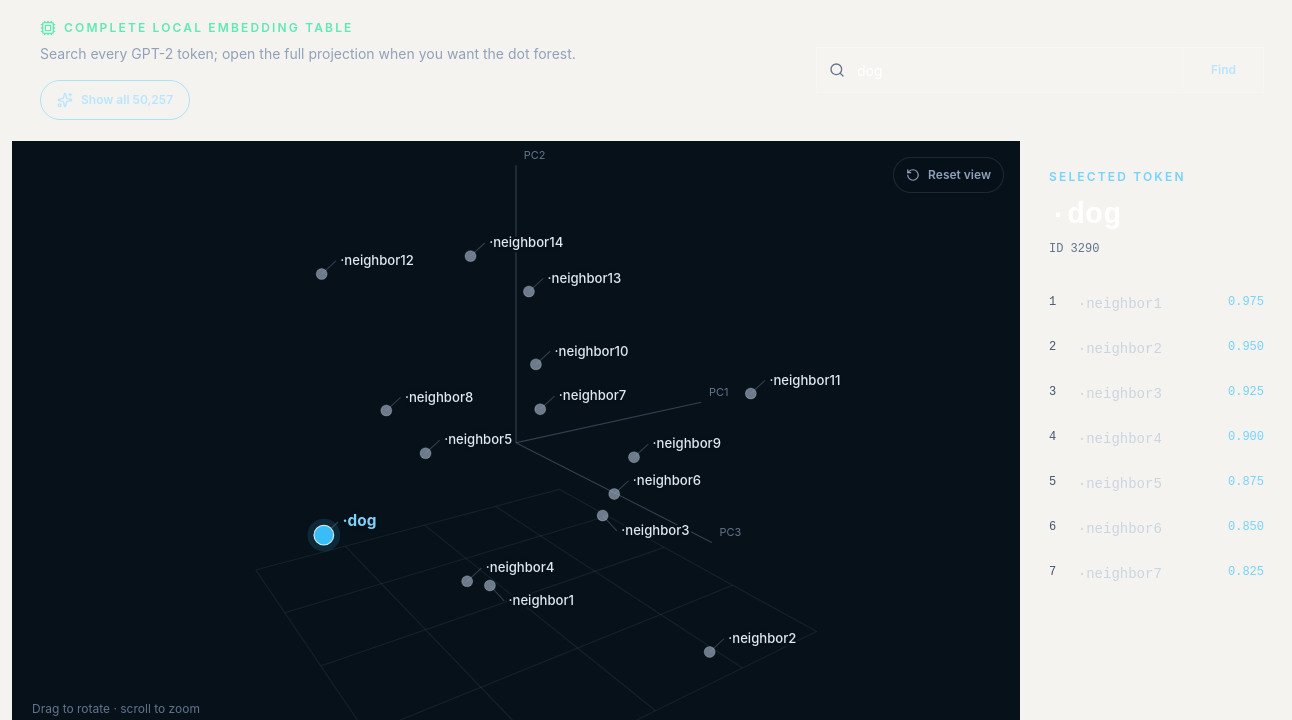
Test: Gpt2EmbeddingExplorer › loads the complete dot forest only when requested and can return to the focused view
Step 1. Click the button with test id "toggle-embedding-forest" → (115, 100), box top-left (40, 80), bottom-right (190, 120)
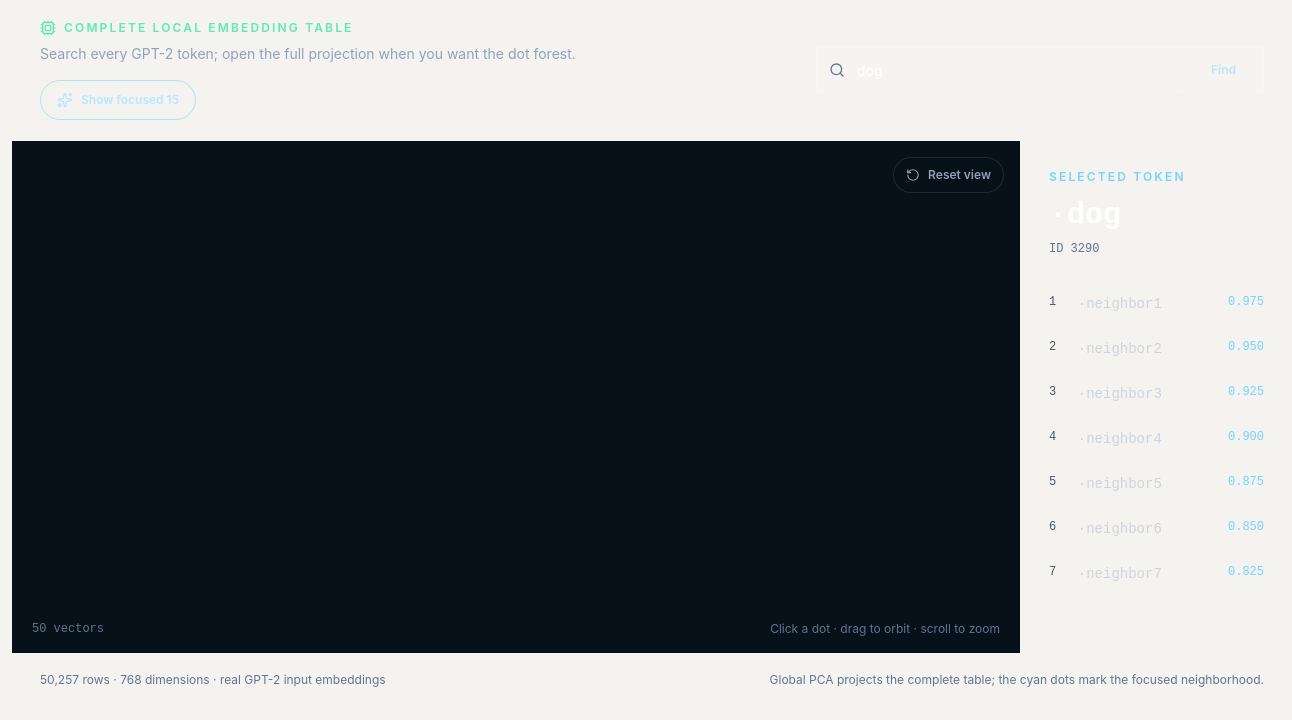
Now the element with test id "gpt2-embedding-forest" is shown, box top-left (12, 141), bottom-right (1020, 653)
Now the button with test id "toggle-embedding-forest" reads "Show focused 15"
Step 2. Click the button with test id "toggle-embedding-forest" → (118, 100), box top-left (40, 80), bottom-right (196, 120)
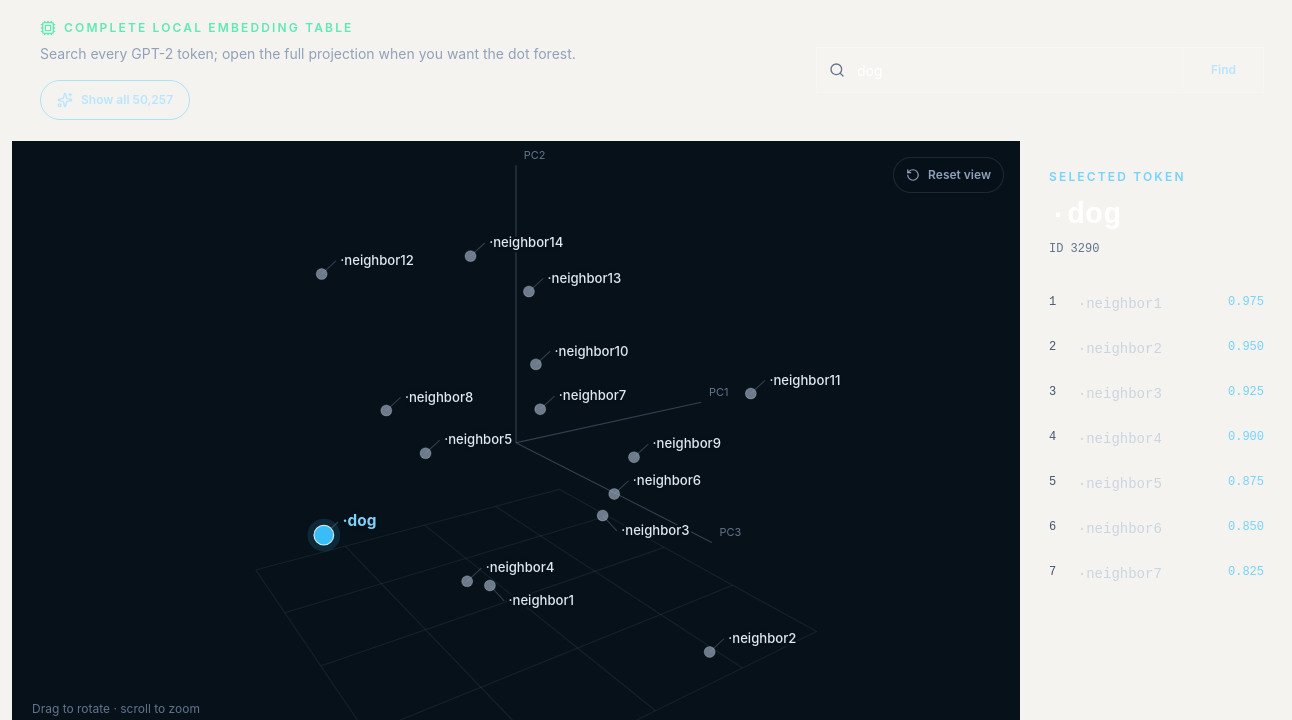
Now the element with test id "gpt2-embedding-forest" is gone
